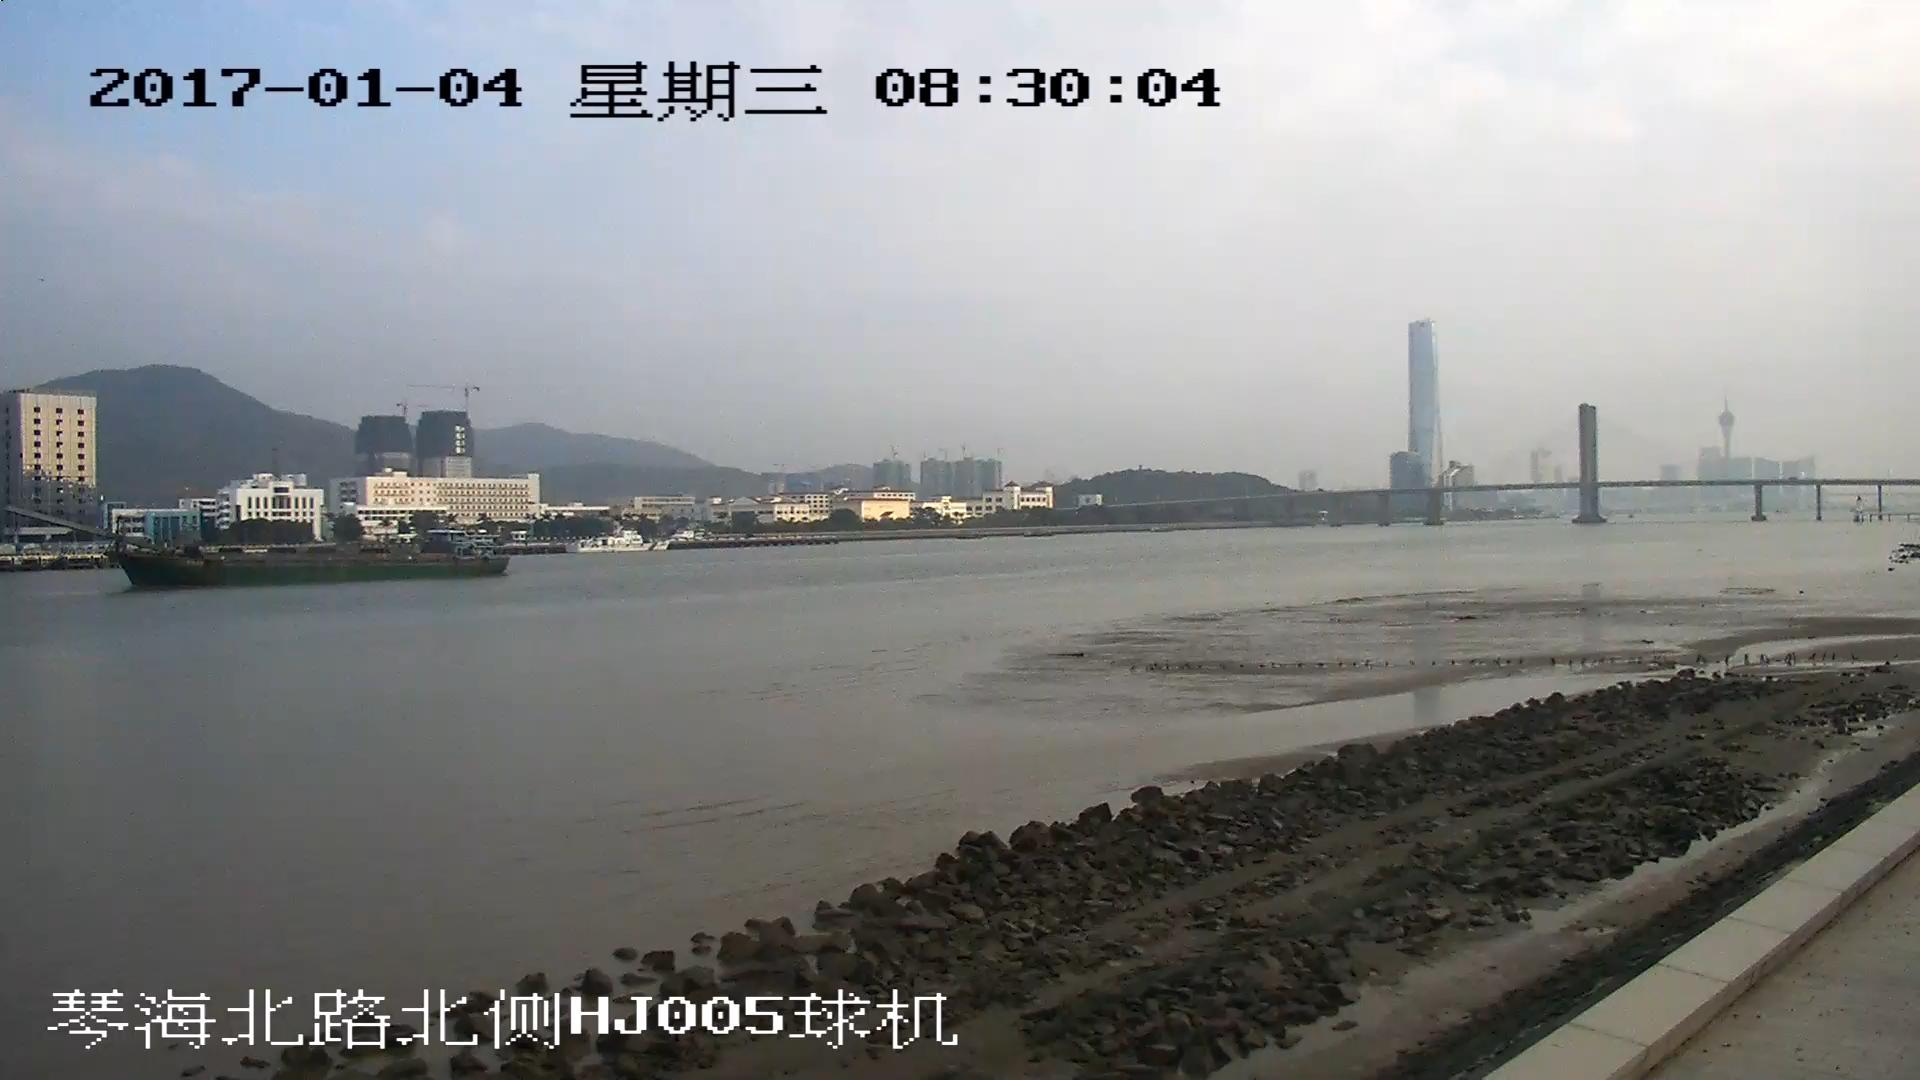Ship: (3, 508, 512, 588)
